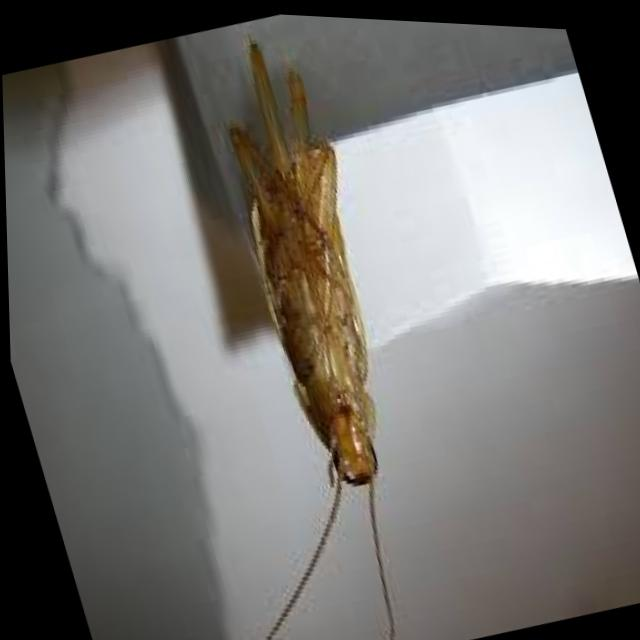Cockroach: (97, 6, 482, 640)
